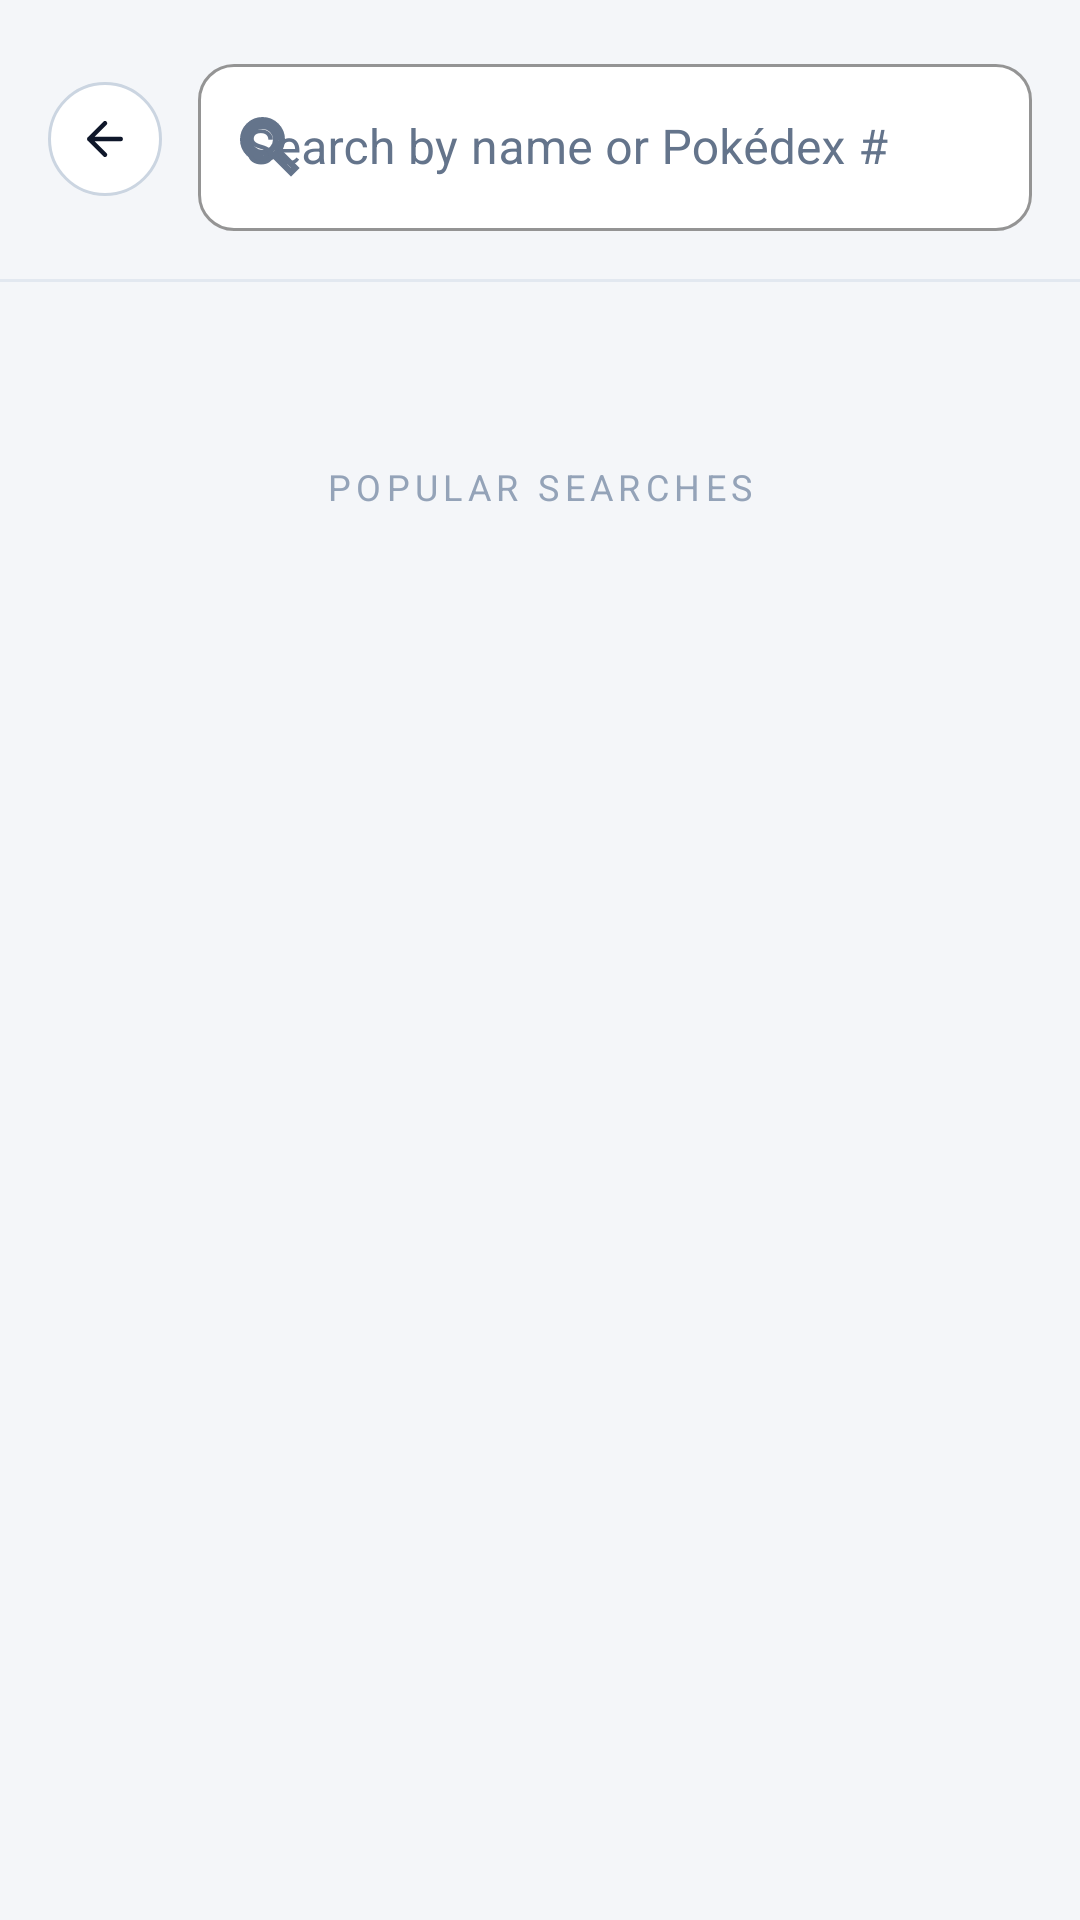

Screen size 1080px×1920px. Icon name, then its box in pixels as (x1, y1, x2, y2):
Back: (48, 82, 162, 196)
